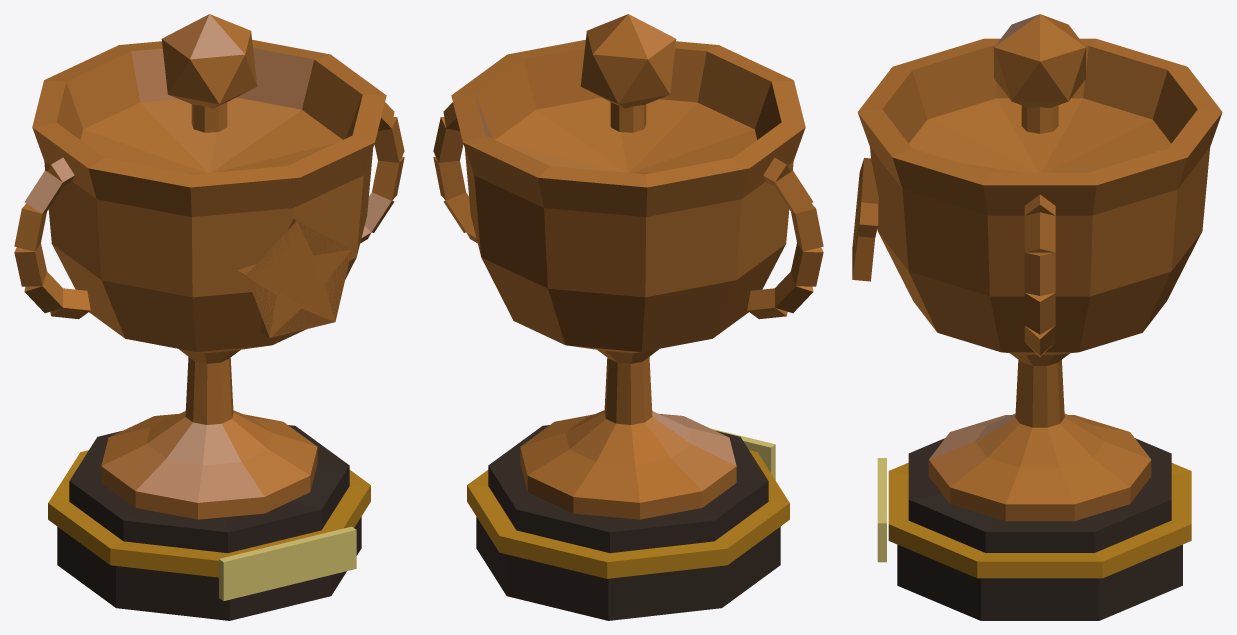
File: Trophy_Bronze.fbx
3 views of the same model, side by side, from view 1: azimuth 30°, elevation 25°; view 2: azimuth 150°, elevation 25°; view 3: azimuth 270°, elevation 25° (orthographic).
Parts seen in each view (by area): view 1: Body; view 2: Body; view 3: Body.
Boxes of the visible parts, x1,y1,x2,y2 form: Body: [14, 14, 404, 620]; Body: [433, 14, 823, 620]; Body: [852, 14, 1222, 620].
Bounding box in the file's own units: 2.94 × 3.9 × 2.39.
